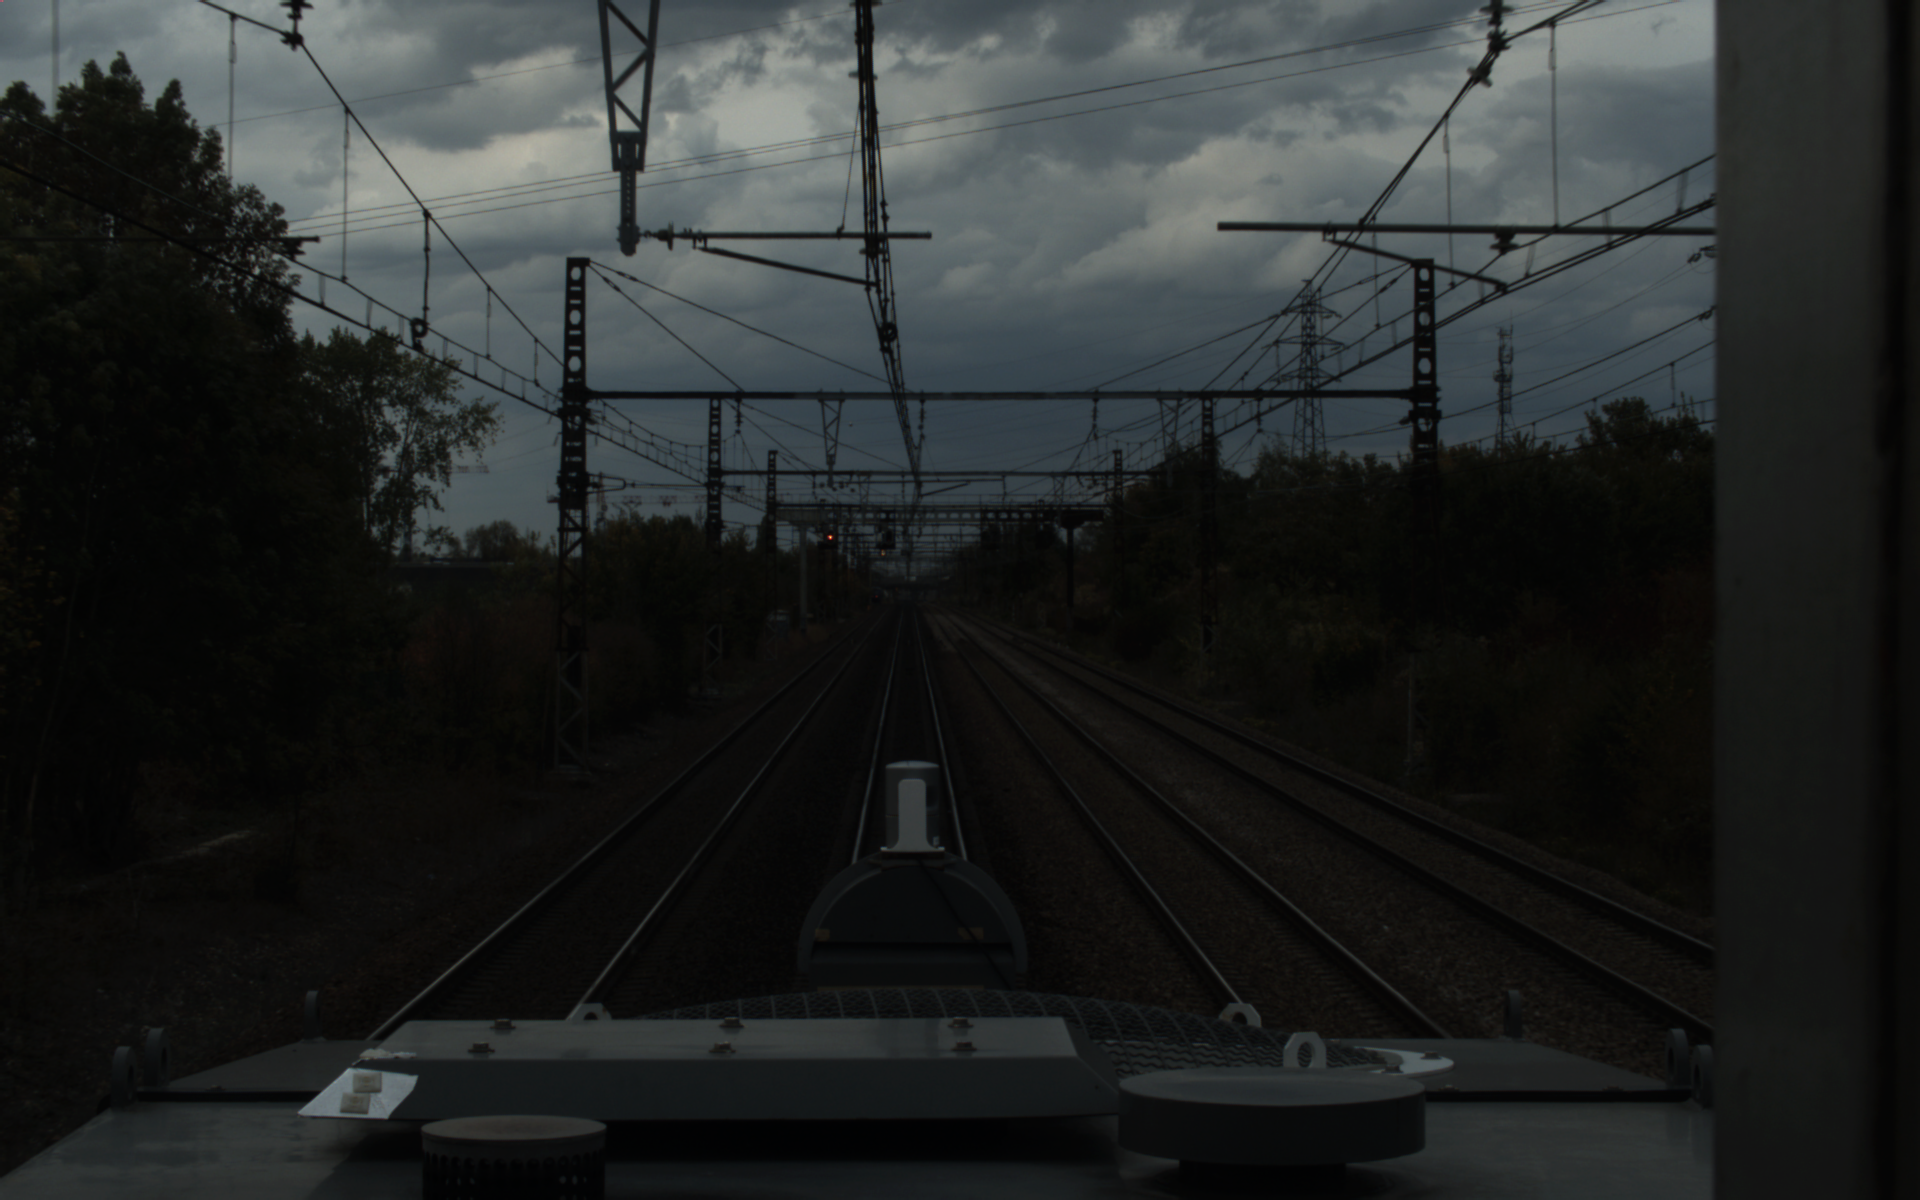Blinking: (881, 527, 894, 546)
Fixed: (822, 525, 838, 547)
